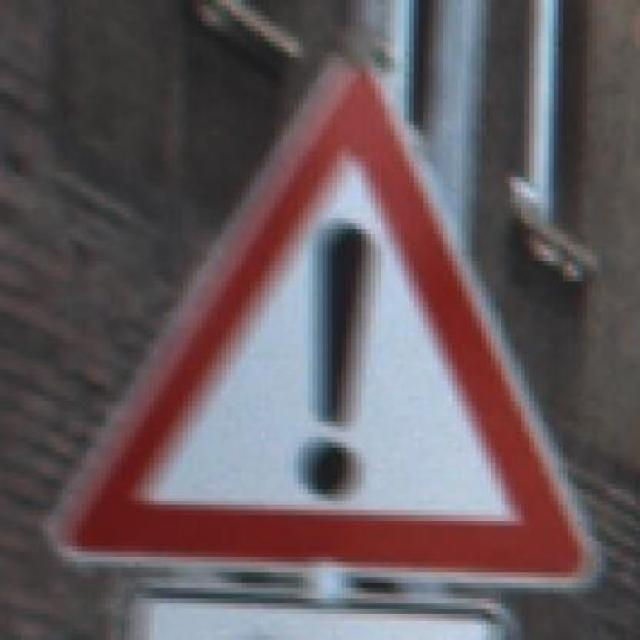Attention Please-: (39, 41, 607, 604)
